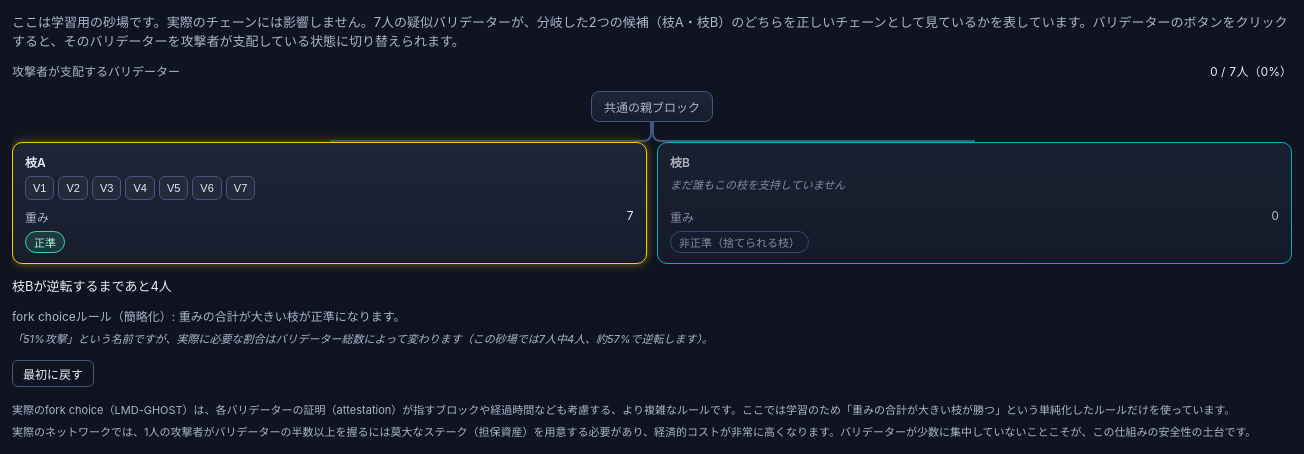
Test: FiftyOnePercentAttackDemoView: toggling validators moves them between branches › moves validator 3 from branch A to branch B when its button is clicked
This screenshot has width=1304, height=454.
Step 1. Click the button with test id "attack51-demo-validator-3" → (107, 188), box [92,176,121,200]
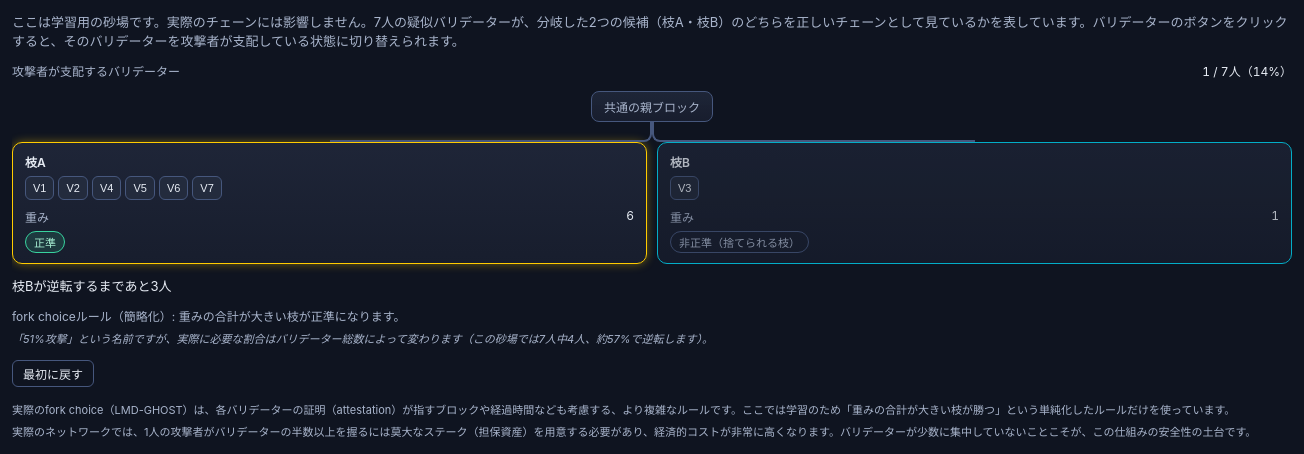
Result: the element with test id "attack51-demo-branch-b-validators" reads "V3" at [670,176,700,200]
